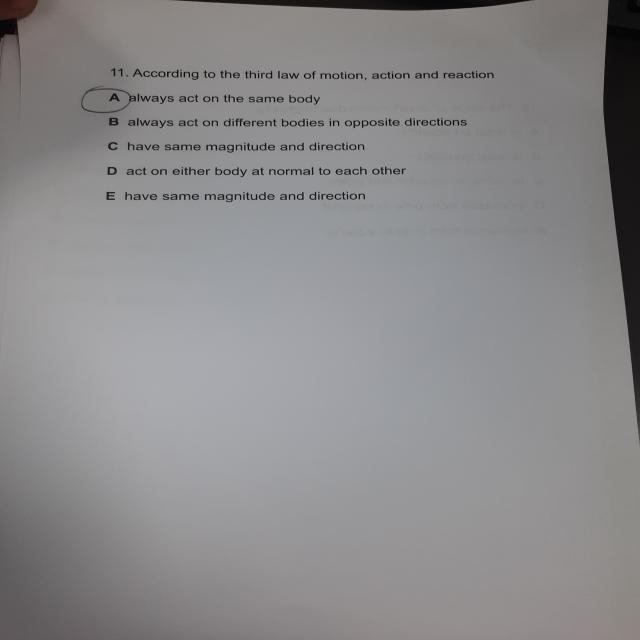A: (79, 87, 135, 116)
